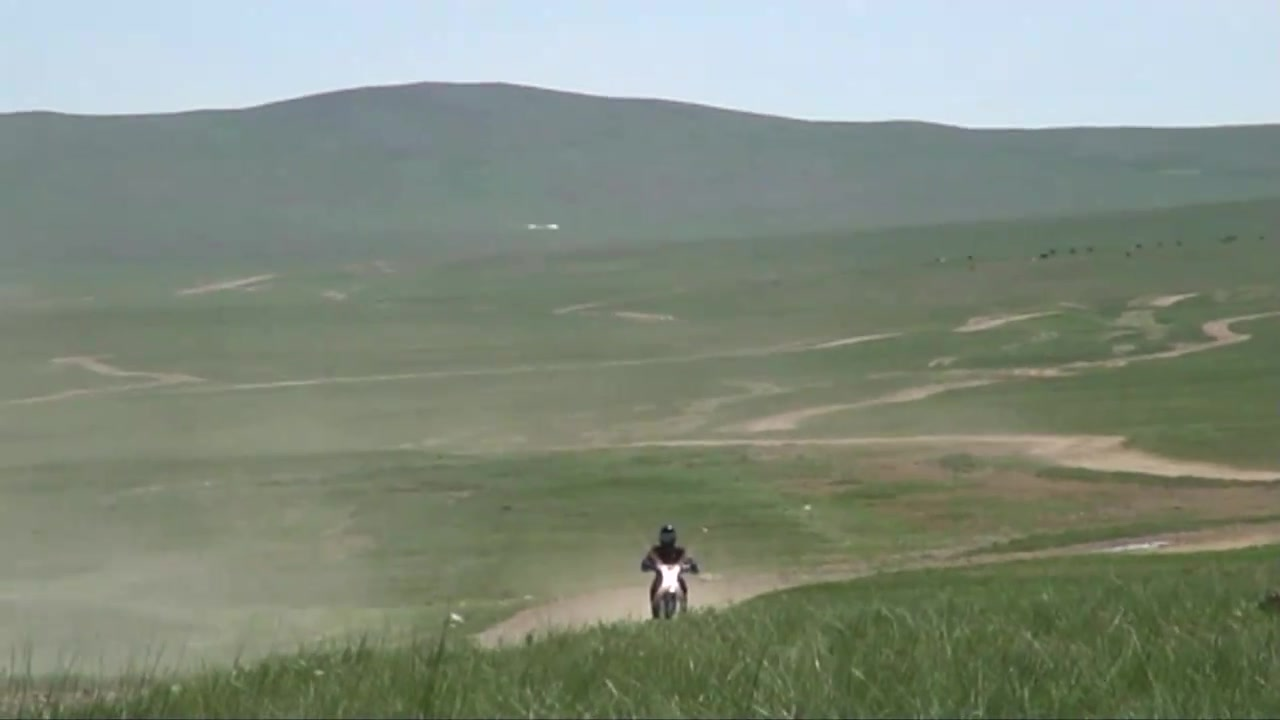motorbike: (642, 554, 701, 619)
